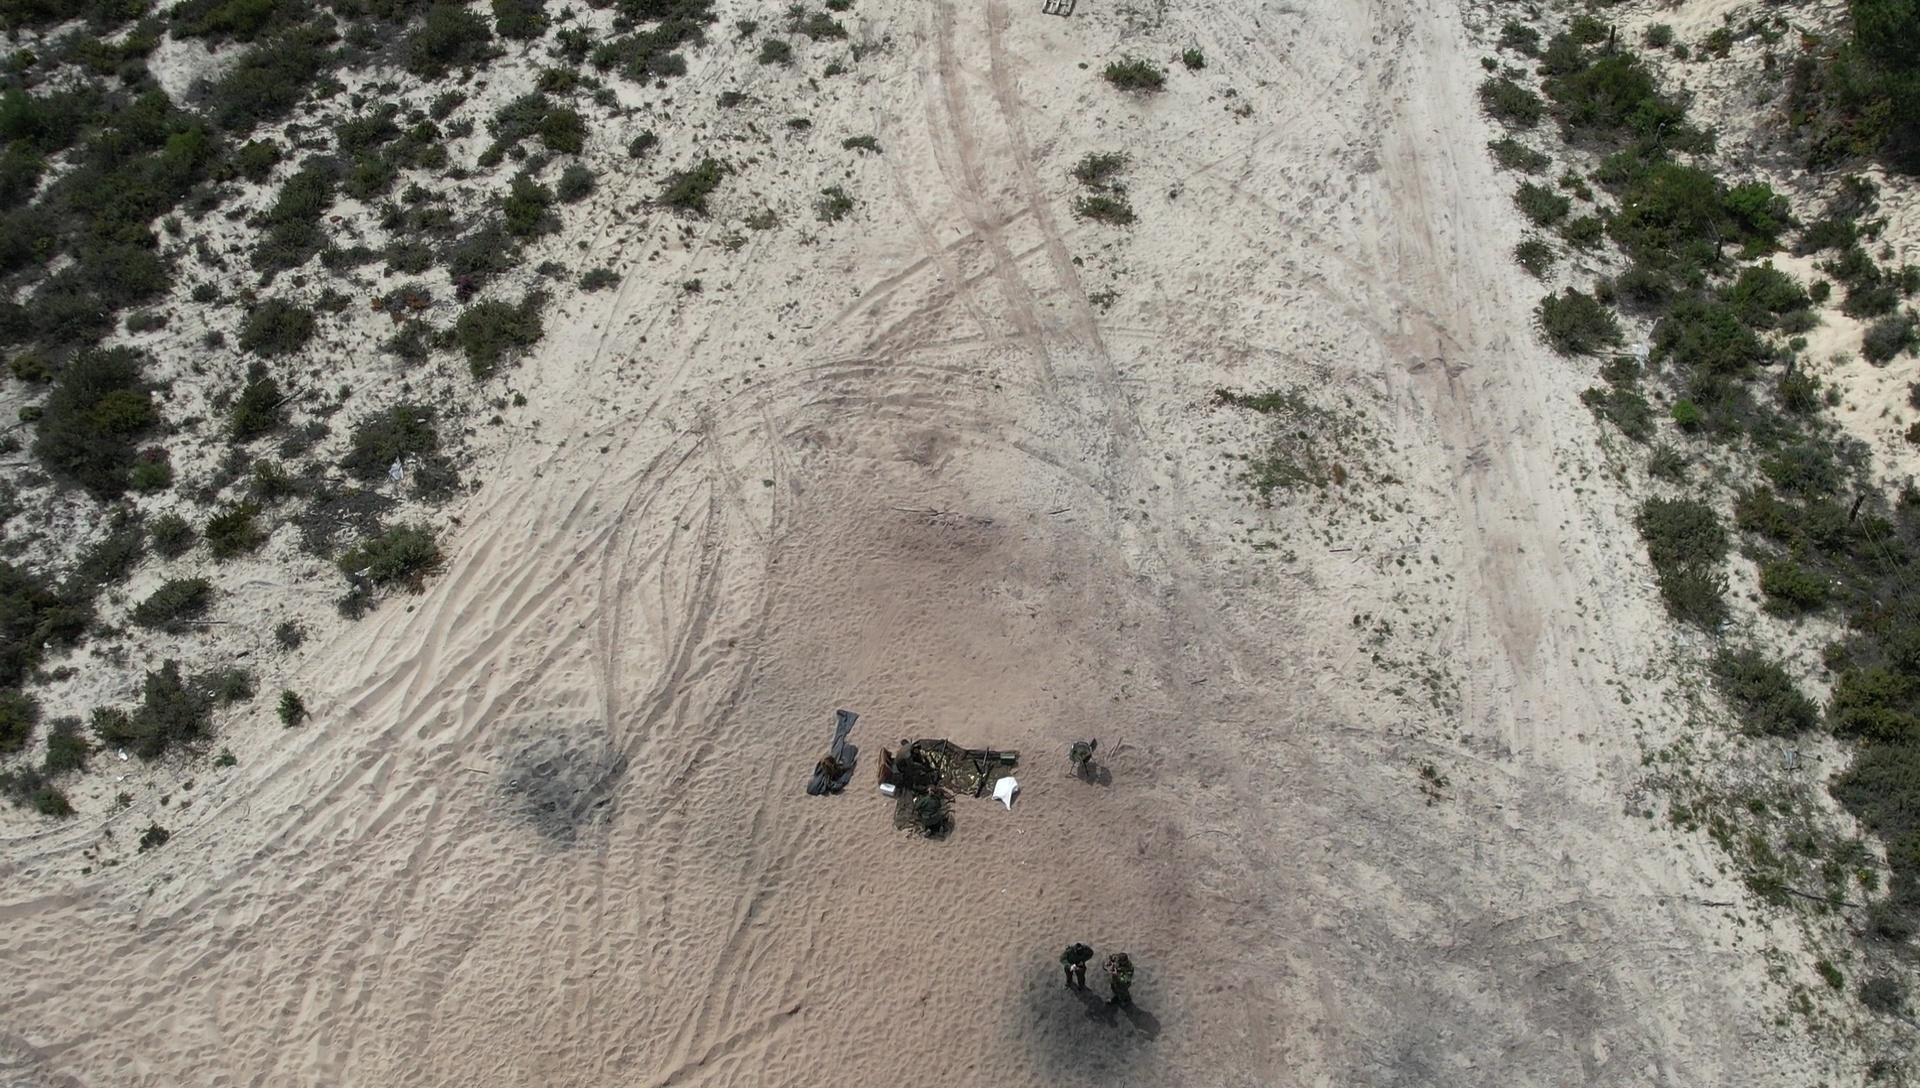Soldier: (1097, 931, 1149, 1021), (913, 779, 957, 862), (1054, 931, 1098, 998), (891, 735, 931, 790)
